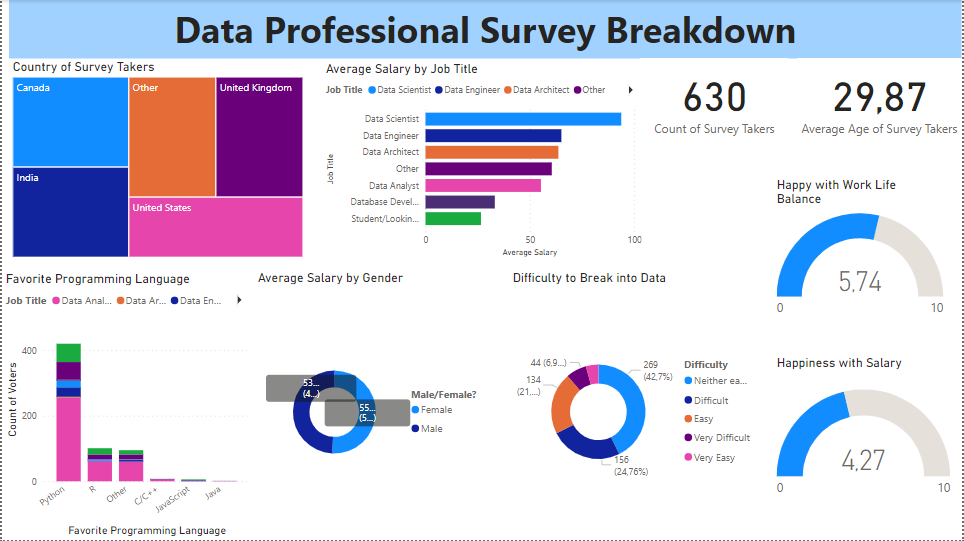

Layout of this report page (visuals, bound fields, positions):
{"tool":"powerbi","page":{"name":"Page 1","canvas":[1280,720],"ordinal":0},"visuals":[{"type":"textbox","box":[9.7,0,1270.3,77.8],"z":0},{"type":"card","fields":{"Values":["CountNonNull(Data Professional Survey.Unique ID)"]},"box":[850.1,77.8,198.4,109.9],"z":1000},{"type":"card","fields":{"Values":["Avg(Data Professional Survey.Q10 - Current Age)"]},"box":[1060.2,77.8,219.8,109.9],"z":2000},{"type":"barChart","title":"Average Salary by Job Title","fields":{"Category":["Data Professional Survey.Q1 - Which Title Best Fits your Current Role?.1"],"Y":["Avg(Data Professional Survey.Average Salary)"],"Series":["Data Professional Survey.Q1 - Which Title Best Fits your Current Role?.1"]},"box":[427,81.5,431.3,266.1],"z":3000},{"type":"columnChart","title":"Favorite Programming Language","fields":{"Category":["Data Professional Survey.Q5 - Favorite Programming Language.1"],"Y":["CountNonNull(Data Professional Survey.Unique ID)"],"Series":["Data Professional Survey.Q1 - Which Title Best Fits your Current Role?.1"]},"box":[0,360.8,335.9,358.7],"z":4000},{"type":"treemap","title":"Country of Survey Takers","fields":{"Group":["Data Professional Survey.Q11 - Which Country do you live in?.1"],"Values":["Count(Data Professional Survey.Q11 - Which Country do you live in?.1)"]},"box":[9.7,78.3,397,269.3],"z":5000},{"type":"gauge","title":"Happy with Work Life Balance","fields":{"Y":["Avg(Data Professional Survey.Q6 - How Happy are you in your Current Position with the following? (Work/Life Balance))"],"MinValue":["Min(Data Professional Survey.Q6 - How Happy are you in your Current Position with the following? (Work/Life Balance))1"],"MaxValue":["Max(Data Professional Survey.Q6 - How Happy are you in your Current Position with the following? (Work/Life Balance))2"]},"box":[1028.4,236,231.9,200.7],"z":5001},{"type":"gauge","title":"Happiness with Salary","fields":{"Y":["Avg(Data Professional Survey.Q6 - How Happy are you in your Current Position with the following? (Salary))"],"MinValue":["Min(Data Professional Survey.Q6 - How Happy are you in your Current Position with the following? (Salary))"],"MaxValue":["Max(Data Professional Survey.Q6 - How Happy are you in your Current Position with the following? (Salary))"]},"box":[1028.4,473.1,241.2,219.4],"z":5002},{"type":"donutChart","title":"Average Salary by Gender","fields":{"Category":["Data Professional Survey.Q9 - Male/Female?"],"Y":["Avg(Data Professional Survey.Average Salary)"]},"box":[335.9,359.8,319.2,359.8],"z":5003},{"type":"donutChart","title":"Difficulty to Break into Data","fields":{"Category":["Data Professional Survey.Q7 - How difficult was it for you to break into Data?"],"Y":["CountNonNull(Data Professional Survey.Q7 - How difficult was it for you to break into Data?)"]},"box":[676.1,360,336.3,359.2],"z":5004}]}

Visuals, with their boxes in screenshot pixels (x1, y1, x2, y2), scaled from the page's 1280x720 canvas onto the 964x541 screenshot:
textbox: region(7, 0, 963, 58)
card - CountNonNull(Data Professional Survey.Unique ID): region(640, 58, 790, 141)
card - Avg(Data Professional Survey.Q10 - Current Age): region(798, 58, 963, 141)
"Average Salary by Job Title" barChart: region(322, 61, 646, 261)
"Favorite Programming Language" columnChart: region(0, 271, 253, 540)
"Country of Survey Takers" treemap: region(7, 59, 306, 261)
"Happy with Work Life Balance" gauge: region(775, 177, 949, 328)
"Happiness with Salary" gauge: region(775, 355, 956, 520)
"Average Salary by Gender" donutChart: region(253, 270, 493, 540)
"Difficulty to Break into Data" donutChart: region(509, 270, 762, 540)
